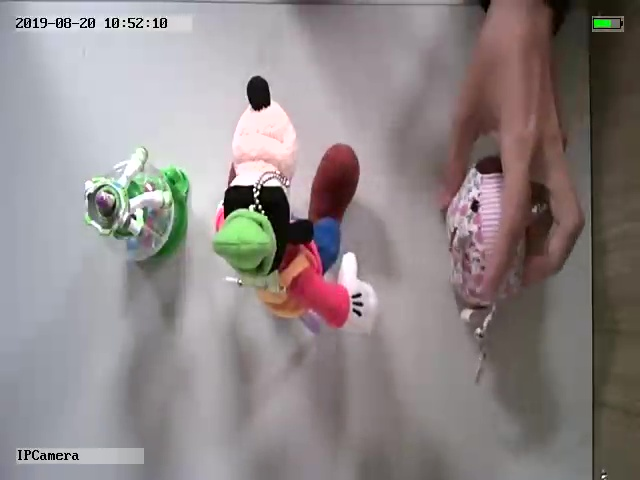buzz: (83, 144, 192, 265)
goofy: (211, 74, 377, 338)
pig: (444, 153, 542, 384)
